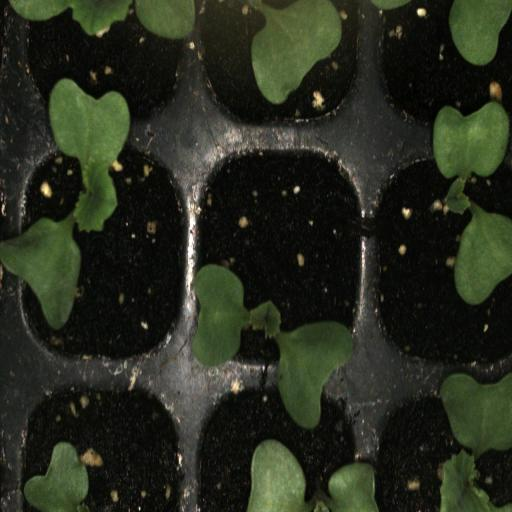seedling: (189, 136, 371, 380), (11, 135, 187, 379), (370, 136, 512, 379)
